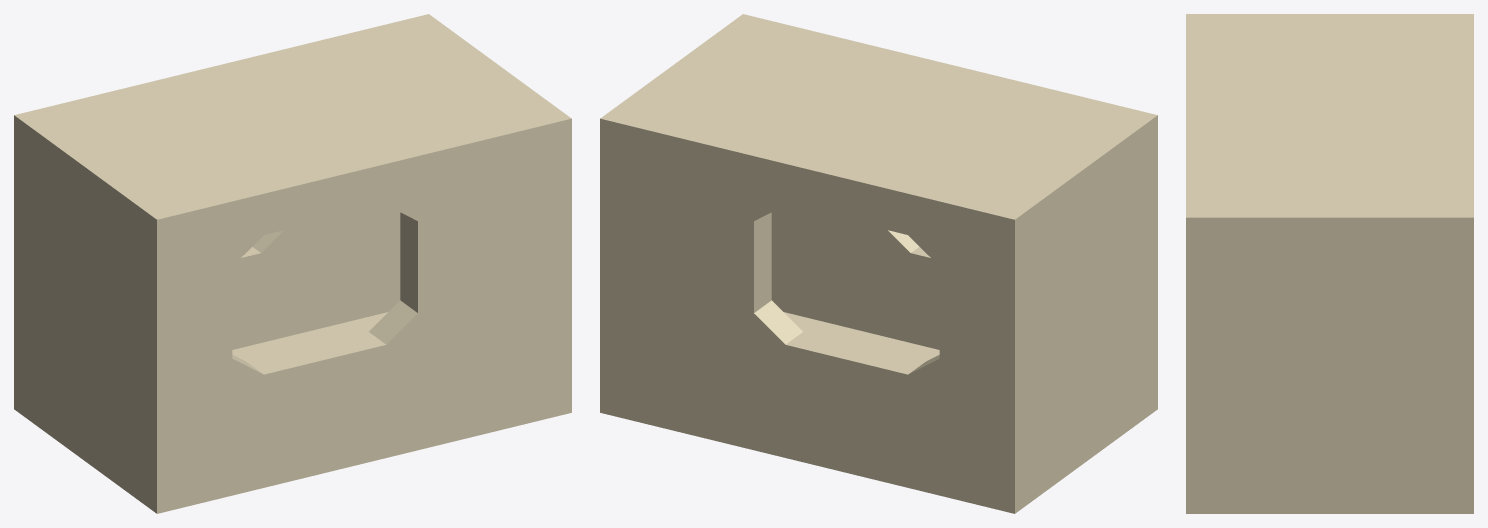
The model's file is VentanillaTaduralacosa (1).fbx.
3 views of the same model, side by side, from view 1: azimuth 30°, elevation 25°; view 2: azimuth 150°, elevation 25°; view 3: azimuth 270°, elevation 25° (orthographic).
Visible parts, largest first — view 1: Cube.001; view 2: Cube.001; view 3: Cube.001.
Boxes of the visible parts, x1,y1,x2,y2 form: Cube.001: [14, 14, 571, 513]; Cube.001: [600, 14, 1157, 513]; Cube.001: [1186, 14, 1473, 513].
Bounding box in the file's own units: 1228 × 832 × 733.
